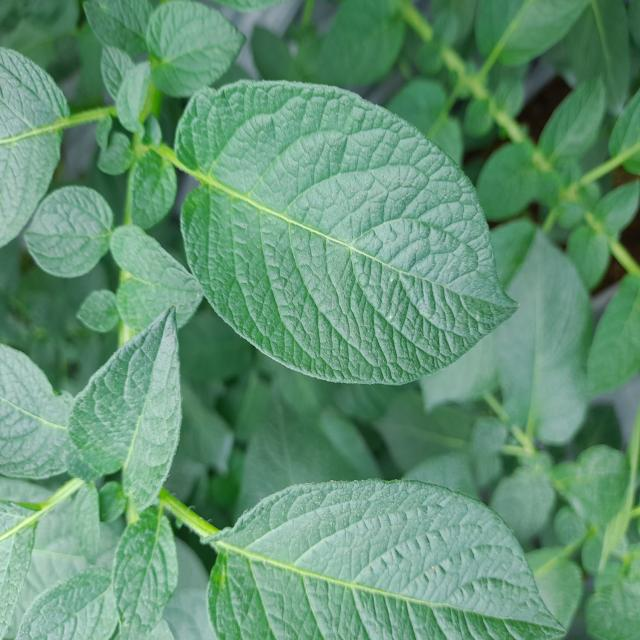healthy: (171, 76, 521, 388)
